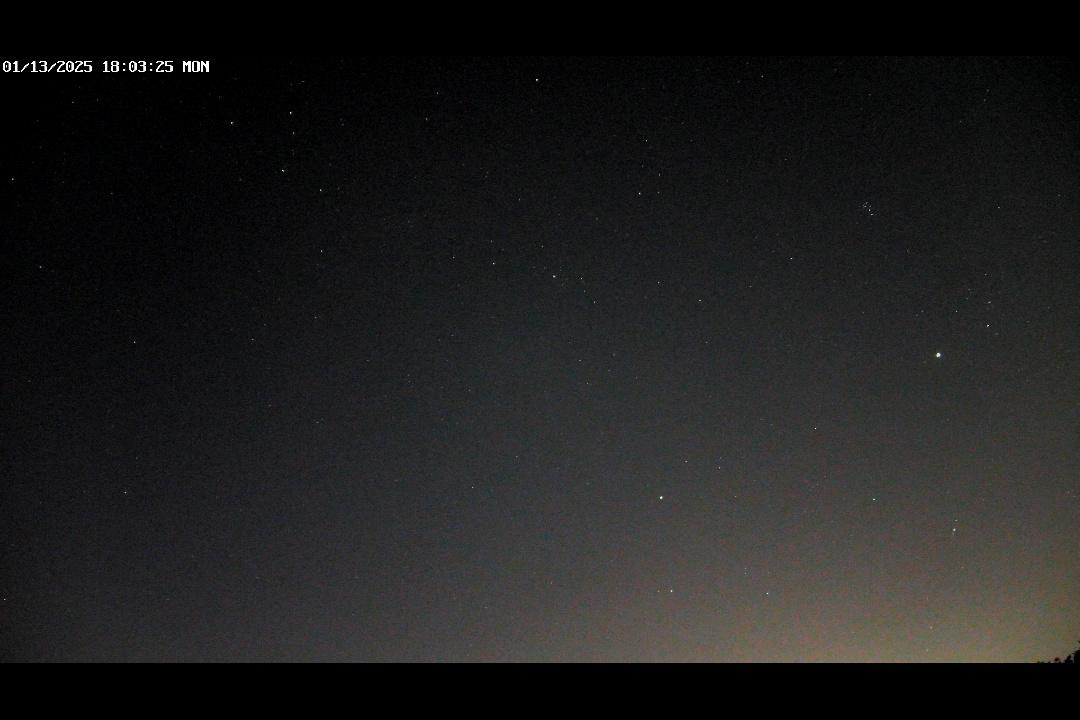Plane: (944, 524, 962, 547)
